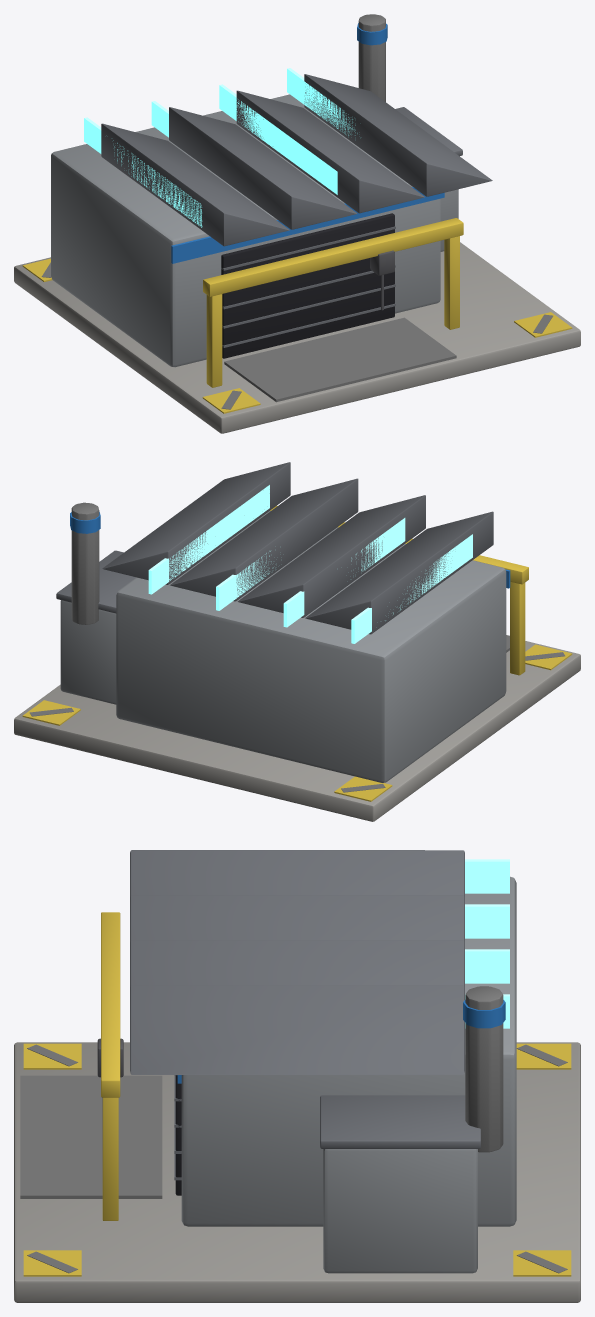
File: bld_factory.glb
3 renders of one model, top to bottom at view 1: azimuth 30°, elevation 25°; view 2: azimuth 150°, elevation 25°; view 3: azimuth 270°, elevation 25°, orthographic. The views are drawn at different scales.
Visible parts, largest first — view 1: shell, foundation, structure, fittings; view 2: structure, shell, foundation, fittings; view 3: shell, foundation, structure, fittings.
Part boxes in pixels (x1,y1,x2,y2): shell: (84, 68, 492, 358); foundation: (14, 242, 580, 433); structure: (51, 94, 458, 367); fittings: (203, 14, 463, 387); structure: (60, 511, 506, 782); shell: (56, 462, 510, 643); foundation: (14, 635, 580, 821); fittings: (70, 502, 528, 675); shell: (130, 850, 509, 1195); foundation: (14, 1042, 580, 1302); structure: (181, 876, 516, 1273); fittings: (97, 912, 505, 1220).
Size of the model in its own units: 8.8 by 4.9 by 8.8.
